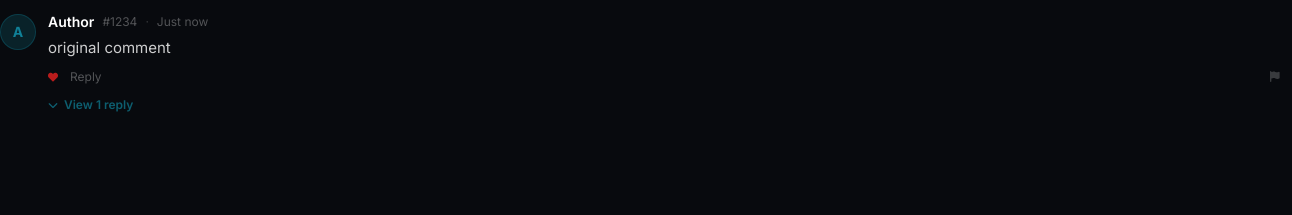
Test: CommentItem — replies › loads and displays nested replies on click, then hides them on second click
Click the button "View 1 reply". click: coordinates (91, 105)
box: x1=48 y1=97 x2=133 y2=113
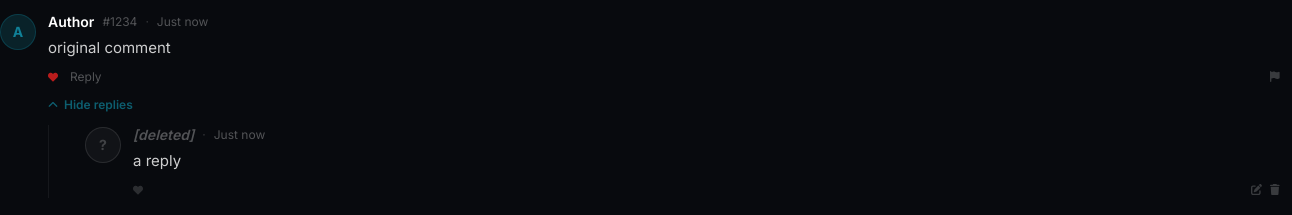
Now the text "a reply" is shown, box x1=133 y1=151 x2=181 y2=170
Now the button "Hide replies" is shown
Click the button "Hide replies". click: coordinates (90, 105)
box: x1=48 y1=97 x2=133 y2=113
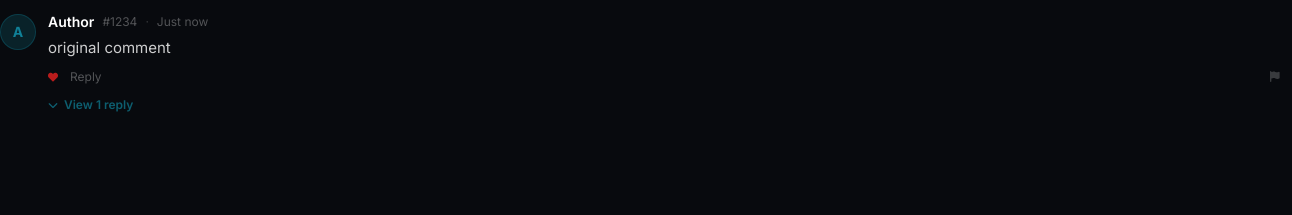
Now the text "a reply" is gone
